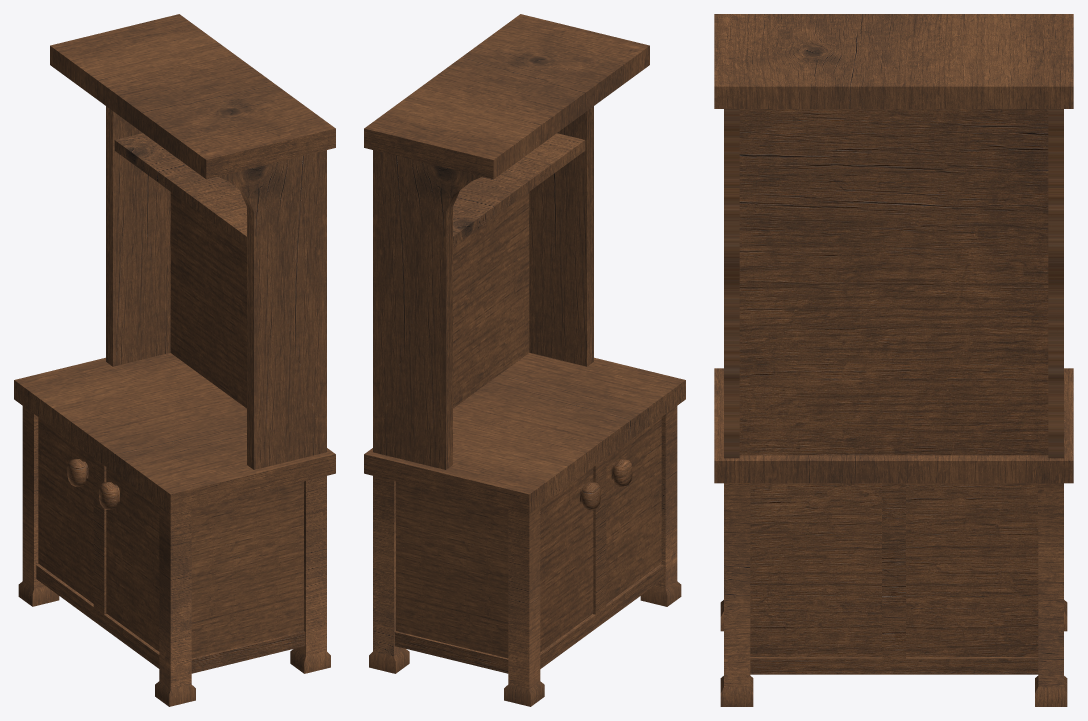
Rendered from Shelf_03.fbx.
3 renders of one model, left to right at view 1: azimuth 30°, elevation 25°; view 2: azimuth 150°, elevation 25°; view 3: azimuth 270°, elevation 25°, orthographic. The views are drawn at different scales.
Parts seen in each view (by area): view 1: Shelf_03; view 2: Shelf_03; view 3: Shelf_03.
Part boxes in pixels (x1,y1,x2,y2): Shelf_03: (14,14,335,706); Shelf_03: (364,14,685,706); Shelf_03: (714,14,1073,706).
Bounding box in the file's own units: 60.9 × 184 × 96.29.
